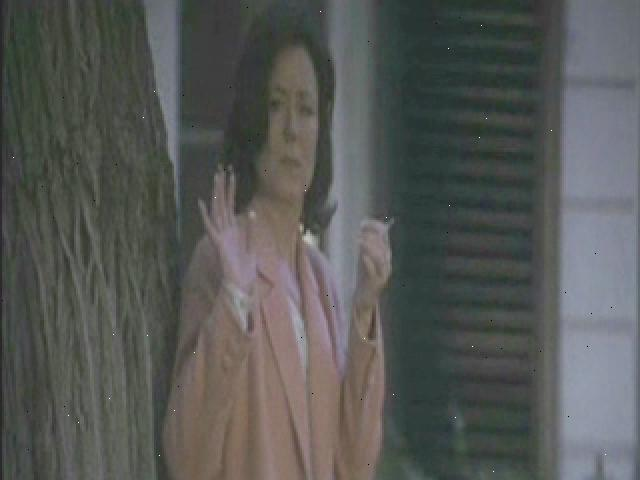T: (162, 9, 395, 478)
